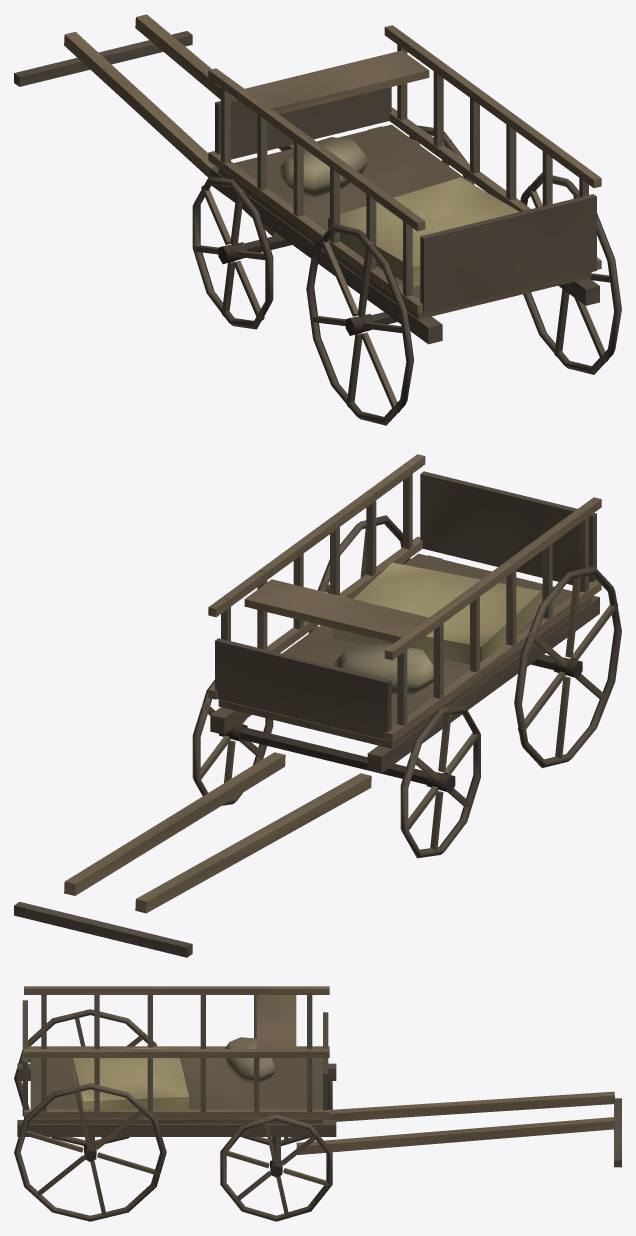
File: m01_prop_horse_cart_lod0.glb
3 views of the same model, one above another, from view 1: azimuth 30°, elevation 25°; view 2: azimuth 150°, elevation 25°; view 3: azimuth 270°, elevation 25° (orthographic). The views are drawn at different scales.
Visible parts, largest first — view 1: horse_cart; view 2: horse_cart; view 3: horse_cart.
Part boxes in pixels (left/top/right/bottom): horse_cart: left=14, top=14, right=621, bottom=425; horse_cart: left=14, top=454, right=621, bottom=957; horse_cart: left=14, top=986, right=621, bottom=1221.
Bounding box in the file's own units: 1.45 × 1.38 × 4.58.
